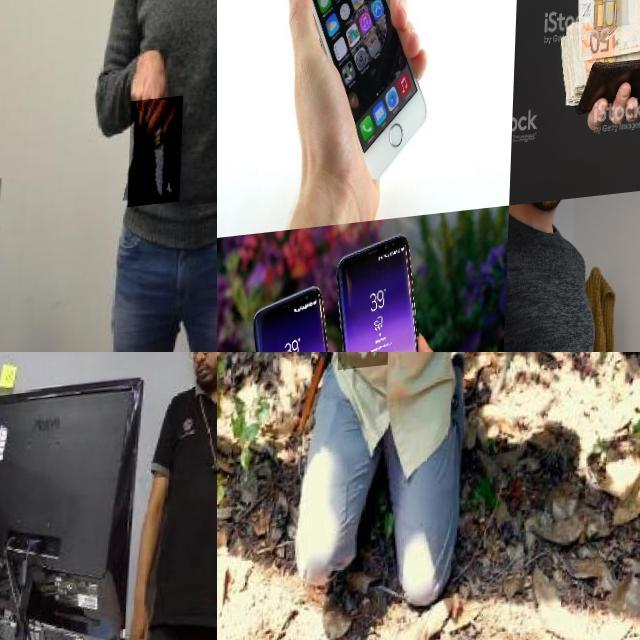-: (131, 103, 186, 213), (339, 352, 393, 409)
